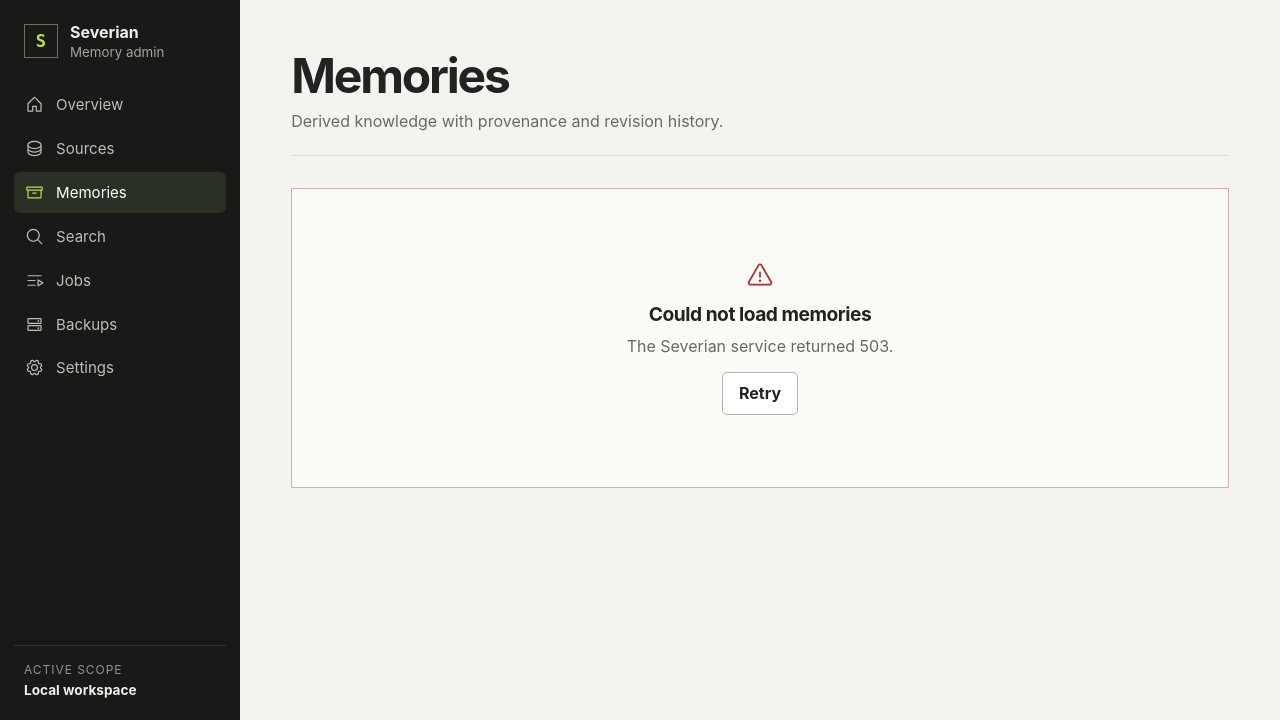
Severian admin shell › renders API errors without pretending data loaded and supports retry
Expected: the message shows "Could not load memories", [649,302,871,326]
Click the button "Retry": (760, 393) [722,372,798,415]
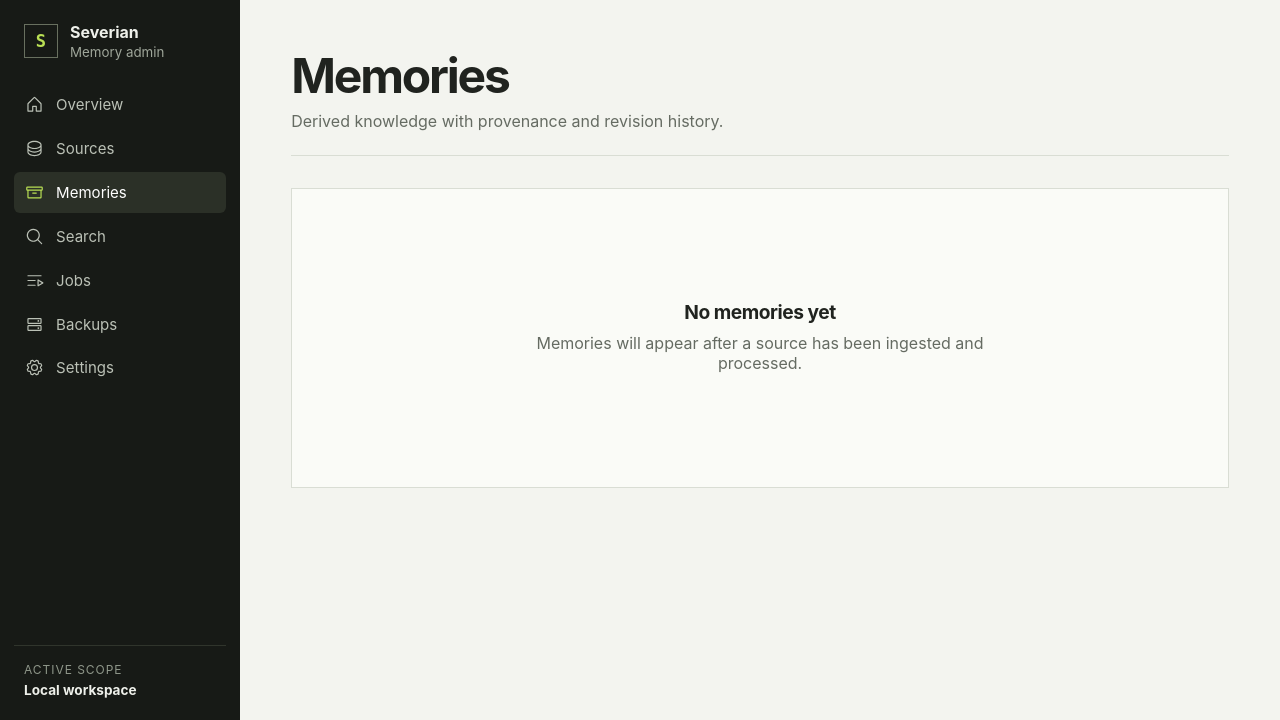
Now the heading "No memories yet" is shown, box [684,300,836,324]
